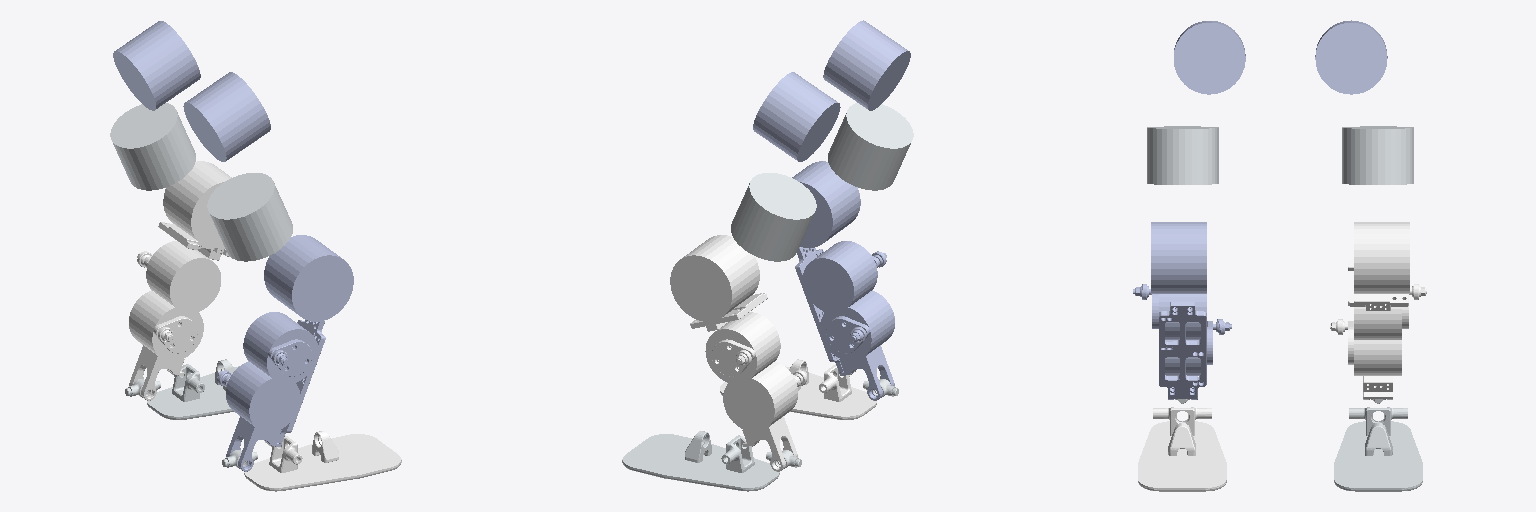
robot.urdf — hi_cl_23_240925:
<?xml version="1.0" encoding="utf-8"?>
<!--
This URDF was automatically created by SolidWorks to URDF Exporter! Originally created by [author] ([email redacted])
Commit Version: 1.6.0-4-g7f85cfe  Build Version: 1.6.7995.38578
For more information, please see http://wiki.ros.org/sw_urdf_exporter
-->
<robot name="hi_cl_23_240925">
	<mujoco>
		<compiler meshdir="../meshes/" balanceinertia="true" discardvisual="false" />
	</mujoco>
	<link name="base_link">
		<inertial>
			<origin xyz="-0.00154853 -7.263E-05 -0.0269642" rpy="0 0 0" />
			<mass value="4" />
			<inertia ixx="0.00957622" ixy="1.02E-06" ixz="-8.442E-05" iyy="0.00654424" iyz="1.11E-06" izz="0.00526567" />
		</inertial>
		<visual>
			<origin xyz="0 0 0" rpy="0 0 0" />
			<geometry>
				<mesh filename="../meshes/base_link.STL" />
			</geometry>
			<material name="">
				<color rgba="0.79216 0.81961 0.93333 1" />
			</material>
		</visual>
		<collision>
			<origin xyz="0 0 -0.07" rpy="0 0 0" />
			<geometry>
				<box size="0.3 0.3 0.25" />
				<!-- <mesh filename="../meshes/base_link.STL" /> -->
			</geometry>
		</collision>
	</link>
<!-- right arm -->
	<link name="r_shoulder_pitch_link">
		<inertial>
			<origin xyz="0.00242196 -0.058252 -8.6807E-05" rpy="0 0 0" />
			<mass value="0.35" />
			<inertia ixx="0.00017393" ixy="-1.346E-05" ixz="-1.1E-07" iyy="0.00013651" iyz="-8E-07" izz="0.00020583" />
		</inertial>
		<visual>
			<origin xyz="0 0 0" rpy="0 0 0" />
			<geometry>
				<mesh filename="../meshes/r_shoulder_pitch_link.STL" />
			</geometry>
			<material name="">
				<color rgba="0.89804 0.91765 0.92941 1" />
			</material>
		</visual>
		<collision>
			<origin xyz="0 0 0" rpy="0 0 0" />
			<geometry>
				<mesh filename="../meshes/r_shoulder_pitch_link.STL" />
			</geometry>
		</collision>
	</link>
	<joint name="r_shoulder_pitch_joint" type="fixed">
		<origin xyz="0 -0.08085 0" rpy="0 0 0" />
		<parent link="base_link" />
		<child link="r_shoulder_pitch_link" />
		<axis xyz="0 1 0" />
		<limit lower="-3.14" upper="3.14" effort="36" velocity="5" />
	</joint>
	<link name="r_shoulder_roll_link">
		<inertial>
			<origin xyz="-0.0088047 -8.8789E-05 -0.052824" rpy="0 0 0" />
			<mass value="0.35" />
			<inertia ixx="0.00028497" ixy="-4.1E-07" ixz="8.018E-05" iyy="0.00032147" iyz="-3.6E-07" izz="0.00014121" />
		</inertial>
		<visual>
			<origin xyz="0 0 0" rpy="0 0 0" />
			<geometry>
				<mesh filename="../meshes/r_shoulder_roll_link.STL" />
			</geometry>
			<material name="">
				<color rgba="0.89804 0.91765 0.92941 1" />
			</material>
		</visual>
		<collision>
			<origin xyz="0 0 0" rpy="0 0 0" />
			<geometry>
				<mesh filename="../meshes/r_shoulder_roll_link.STL" />
			</geometry>
		</collision>
	</link>
	<joint name="r_shoulder_roll_joint" type="fixed">
		<origin xyz="0 -0.06515 0" rpy="0 0 0" />
		<parent link="r_shoulder_pitch_link" />
		<child link="r_shoulder_roll_link" />
		<axis xyz="1 0 0" />
		<limit lower="-3.14" upper="3.14" effort="36" velocity="5" />
	</joint>
	<link name="r_arm_yaw_link">
		<inertial>
			<origin xyz="-0.002422 -8.6807E-05 -0.059552" rpy="0 0 0" />
			<mass value="0.35" />
			<inertia ixx="0.00017393" ixy="1.1E-07" ixz="1.346E-05" iyy="0.00020583" iyz="-8E-07" izz="0.00013651" />
		</inertial>
		<visual>
			<origin xyz="0 0 0" rpy="0 0 0" />
			<geometry>
				<mesh filename="../meshes/r_arm_yaw_link.STL" />
			</geometry>
			<material name="">
				<color rgba="0.89804 0.91765 0.92941 1" />
			</material>
		</visual>
		<collision>
			<origin xyz="0 0 0" rpy="0 0 0" />
			<geometry>
				<mesh filename="../meshes/r_arm_yaw_link.STL" />
			</geometry>
		</collision>
	</link>
	<joint name="r_arm_yaw_joint" type="fixed">
		<origin xyz="-0.0026 0 -0.06495" rpy="0 0 1.5707963" />
		<parent link="r_shoulder_roll_link" />
		<child link="r_arm_yaw_link" />
		<axis xyz="0 0 1" />
		<limit lower="-3.14" upper="3.14" effort="36" velocity="5" />
	</joint>
	<link name="r_arm_roll_link">
		<inertial>
			<origin xyz="0.0088047 8.8789E-05 -0.052824" rpy="0 0 0" />
			<mass value="0.35" />
			<inertia ixx="0.00028497" ixy="-4.1E-07" ixz="-8.018E-05" iyy="0.00032147" iyz="3.6E-07" izz="0.00014121" />
		</inertial>
		<visual>
			<origin xyz="0 0 0" rpy="0 0 0" />
			<geometry>
				<mesh filename="../meshes/r_arm_roll_link.STL" />
			</geometry>
			<material name="">
				<color rgba="0.89804 0.91765 0.92941 1" />
			</material>
		</visual>
		<collision>
			<origin xyz="0 0 0" rpy="0 0 0" />
			<geometry>
				<mesh filename="../meshes/r_arm_roll_link.STL" />
			</geometry>
		</collision>
	</link>
	<joint name="r_arm_roll_joint" type="fixed">
		<origin xyz="0 0 -0.06645" rpy="-1.5707963 0 0" />
		<parent link="r_arm_yaw_link" />
		<child link="r_arm_roll_link" />
		<axis xyz="1 0 0" />
		<limit lower="-3.14" upper="3.14" effort="36" velocity="5" />
	</joint>
	<link name="r_wrist_yaw_link">
		<inertial>
			<origin xyz="0 0 -0.06558" rpy="0 0 0" />
			<mass value="0.035143" />
			<inertia ixx="1.2175E-05" ixy="9.4252E-23" ixz="1.2115E-20" iyy="1.2175E-05" iyz="-1.456E-19" izz="3.7315E-06" />
		</inertial>
		<visual>
			<origin xyz="0 0 0" rpy="0 0 0" />
			<geometry>
				<mesh filename="../meshes/r_wrist_yaw_link.STL" />
			</geometry>
			<material name="">
				<color rgba="0.49804 0.49804 0.49804 1" />
			</material>
		</visual>
		<collision>
			<origin xyz="0 0 0" rpy="0 0 0" />
			<geometry>
				<mesh filename="../meshes/r_wrist_yaw_link.STL" />
			</geometry>
		</collision>
	</link>
	<joint name="r_wrist_yaw_joint" type="fixed">
		<origin xyz="0.0026 0 -0.06495" rpy="0 0 0" />
		<parent link="r_arm_roll_link" />
		<child link="r_wrist_yaw_link" />
		<axis xyz="0 0 1" />
		<limit lower="-3.14" upper="3.14" effort="36" velocity="5" />
	</joint>
<!-- left arm -->
	<link name="l_shoulder_pitch_link">
		<inertial>
			<origin xyz="0.00095302 0.058734 -8.0741E-05" rpy="0 0 0" />
			<mass value="0.35" />
			<inertia ixx="0.00016981" ixy="1.582E-05" ixz="-6E-08" iyy="0.00014053" iyz="7.3E-07" izz="0.00020608" />
		</inertial>
		<visual>
			<origin xyz="0 0 0" rpy="0 0 0" />
			<geometry>
				<mesh filename="../meshes/l_shoulder_pitch_link.STL" />
			</geometry>
			<material name="">
				<color rgba="1 1 1 1" />
			</material>
		</visual>
		<collision>
			<origin xyz="0 0 0" rpy="0 0 0" />
			<geometry>
				<mesh filename="../meshes/l_shoulder_pitch_link.STL" />
			</geometry>
		</collision>
	</link>
	<joint name="l_shoulder_pitch_joint" type="fixed">
		<origin xyz="0 0.08085 0" rpy="0 0 0" />
		<parent link="base_link" />
		<child link="l_shoulder_pitch_link" />
		<axis xyz="0 1 0" />
		<limit lower="-3.14" upper="3.14" effort="36" velocity="5" />
	</joint>
	<link name="l_shoulder_roll_link">
		<inertial>
			<origin xyz="-0.0088047 8.879E-05 -0.052824" rpy="0 0 0" />
			<mass value="0.35" />
			<inertia ixx="0.00028497" ixy="4.1E-07" ixz="8.018E-05" iyy="0.00032147" iyz="3.6E-07" izz="0.00014121" />
		</inertial>
		<visual>
			<origin xyz="0 0 0" rpy="0 0 0" />
			<geometry>
				<mesh filename="../meshes/l_shoulder_roll_link.STL" />
			</geometry>
			<material name="">
				<color rgba="0.89804 0.91765 0.92941 1" />
			</material>
		</visual>
		<collision>
			<origin xyz="0 0 0" rpy="0 0 0" />
			<geometry>
				<mesh filename="../meshes/l_shoulder_roll_link.STL" />
			</geometry>
		</collision>
	</link>
	<joint name="l_shoulder_roll_joint" type="fixed">
		<origin xyz="0 0.06515 0" rpy="0 0 0" />
		<parent link="l_shoulder_pitch_link" />
		<child link="l_shoulder_roll_link" />
		<axis xyz="1 0 0" />
		<limit lower="-3.14" upper="3.14" effort="36" velocity="5" />
	</joint>
	<link name="l_arm_yaw_link">
		<inertial>
			<origin xyz="-0.002422 8.6807E-05 -0.059552" rpy="0 0 0" />
			<mass value="0.35" />
			<inertia ixx="0.00017393" ixy="-1.1E-07" ixz="1.346E-05" iyy="0.00020583" iyz="8E-07" izz="0.00013651" />
		</inertial>
		<visual>
			<origin xyz="0 0 0" rpy="0 0 0" />
			<geometry>
				<mesh filename="../meshes/l_arm_yaw_link.STL" />
			</geometry>
			<material name="">
				<color rgba="0.89804 0.91765 0.92941 1" />
			</material>
		</visual>
		<collision>
			<origin xyz="0 0 0" rpy="0 0 0" />
			<geometry>
				<mesh filename="../meshes/l_arm_yaw_link.STL" />
			</geometry>
		</collision>
	</link>
	<joint name="l_arm_yaw_joint" type="fixed">
		<origin xyz="-0.0026 0 -0.06495" rpy="0 0 1.5707963" />
		<parent link="l_shoulder_roll_link" />
		<child link="l_arm_yaw_link" />
		<axis xyz="0 0 1" />
		<limit lower="-3.14" upper="3.14" effort="36" velocity="5" />
	</joint>
	<link name="l_arm_roll_link">
		<inertial>
			<origin xyz="0.0088047 -8.879E-05 -0.052824" rpy="0 0 0" />
			<mass value="0.35" />
			<inertia ixx="0.00028497" ixy="4.1E-07" ixz="-8.018E-05" iyy="0.00032147" iyz="-3.6E-07" izz="0.00014121" />
		</inertial>
		<visual>
			<origin xyz="0 0 0" rpy="0 0 0" />
			<geometry>
				<mesh filename="../meshes/l_arm_roll_link.STL" />
			</geometry>
			<material name="">
				<color rgba="0.89804 0.91765 0.92941 1" />
			</material>
		</visual>
		<collision>
			<origin xyz="0 0 0" rpy="0 0 0" />
			<geometry>
				<mesh filename="../meshes/l_arm_roll_link.STL" />
			</geometry>
		</collision>
	</link>
	<joint name="l_arm_roll_joint" type="fixed">
		<origin xyz="0 0 -0.06645" rpy="-1.5707963 0 0" />
		<parent link="l_arm_yaw_link" />
		<child link="l_arm_roll_link" />
		<axis xyz="1 0 0" />
		<limit lower="-3.14" upper="3.14" effort="36" velocity="5" />
	</joint>
	<link name="l_wrist_yaw_link">
		<inertial>
			<origin xyz="1.1102E-16 3.7151E-14 -0.06558" rpy="0 0 0" />
			<mass value="0.035143" />
			<inertia ixx="1.2175E-05" ixy="2.3882E-22" ixz="2.2238E-20" iyy="1.2175E-05" iyz="3.9298E-20" izz="3.7315E-06" />
		</inertial>
		<visual>
			<origin xyz="0 0 0" rpy="0 0 0" />
			<geometry>
				<mesh filename="../meshes/l_wrist_yaw_link.STL" />
			</geometry>
			<material name="">
				<color rgba="0.49804 0.49804 0.49804 1" />
			</material>
		</visual>
		<collision>
			<origin xyz="0 0 0" rpy="0 0 0" />
			<geometry>
				<mesh filename="../meshes/l_wrist_yaw_link.STL" />
			</geometry>
		</collision>
	</link>
	<joint name="l_wrist_yaw_joint" type="fixed">
		<origin xyz="0.0026 0 -0.06495" rpy="0 0 0" />
		<parent link="l_arm_roll_link" />
		<child link="l_wrist_yaw_link" />
		<axis xyz="0 0 1" />
		<limit lower="-3.14" upper="3.14" effort="36" velocity="5" />
	</joint>
<!-- loin -->
	<link name="loin_yaw_link">
		<inertial>
			<origin xyz="0 0 -0.060242" rpy="0 0 0" />
			<mass value="1.305" />
			<inertia ixx="0.0015765" ixy="2.98E-06" ixz="0" iyy="0.00041876" iyz="0" izz="0.0014561" />
		</inertial>
		<visual>
			<origin xyz="0 0 0" rpy="0 0 0" />
			<geometry>
				<mesh filename="../meshes/loin_yaw_link.STL" />
			</geometry>
			<material name="">
				<color rgba="1 1 1 1" />
			</material>
		</visual>
		<collision>
			<origin xyz="0 0 -0.06" rpy="0 0 0" />
			<geometry>
				<box size="0.06 0.12 0.06" />
				<!-- <mesh filename="../meshes/loin_yaw_link.STL" /> -->
			</geometry>
		</collision>
	</link>
	<joint name="loin_yaw_joint" type="fixed">
		<origin xyz="0 0 -0.19425" rpy="0 0 0" />
		<parent link="base_link" />
		<child link="loin_yaw_link" />
		<axis xyz="0 0 1" />
		<limit lower="-3.14" upper="3.14" effort="36" velocity="5" />
	</joint>
<!-- right leg -->
	<link name="r_hip_pitch_link">
		<inertial>
			<origin xyz="-0.00022626 -0.06684 9.015E-05" rpy="0 0 0" />
			<mass value="0.661" />
			<inertia ixx="0.00018617" ixy="-1E-08" ixz="1.2E-07" iyy="0.00019782" iyz="4.7E-07" izz="0.0002263" />
		</inertial>
		<visual>
			<origin xyz="0 0 0" rpy="0 0 0" />
			<geometry>
				<mesh filename="../meshes/r_hip_pitch_link.STL" />
			</geometry>
			<material name="">
				<color rgba="0.79216 0.81961 0.93333 1" />
			</material>
		</visual>
		<collision>
			<origin xyz="0 -0.07 0" rpy="0 0 0" />
			<geometry>
				<box size="0.06 0.06 0.06" />
				<!-- <mesh filename="../meshes/r_hip_pitch_link.STL" /> -->
			</geometry>
		</collision>
	</link>
	<joint name="r_hip_pitch_joint" type="revolute">
		<origin xyz="0 -0.02875 -0.06425" rpy="0 -0.4 0" />
		<parent link="loin_yaw_link" />
		<child link="r_hip_pitch_link" />
		<axis xyz="0 1 0" />
		<limit lower="-1.0" upper="1.8" effort="36" velocity="5" />
	</joint>
	<link name="r_hip_roll_link">
		<inertial>
			<origin xyz="0.00088845 -0.00019059 -0.066357" rpy="0 0 0" />
			<mass value="0.54219" />
			<inertia ixx="0.00096893" ixy="-6.4E-07" ixz="-2.26E-05" iyy="0.0012165" iyz="-2.89E-06" izz="0.0004037" />
		</inertial>
		<visual>
			<origin xyz="0 0 0" rpy="0 0 0" />
			<geometry>
				<mesh filename="../meshes/r_hip_roll_link.STL" />
			</geometry>
			<material name="">
				<color rgba="0.89804 0.91765 0.92941 1" />
			</material>
		</visual>
		<collision>
			<origin xyz="0 0 -0.08" rpy="0 0 0" />
			<geometry>
				<box size="0.06 0.06 0.06" />
				<!-- <mesh filename="../meshes/r_hip_roll_link.STL" /> -->
			</geometry>
		</collision>
	</link>
	<joint name="r_hip_roll_joint" type="revolute">
		<origin xyz="0 -0.06875 0" rpy="0 0 0" />
		<parent link="r_hip_pitch_link" />
		<child link="r_hip_roll_link" />
		<axis xyz="1 0 0" />
		<limit lower="-0.5" upper="0.12" effort="36" velocity="5" />
	</joint>
	<link name="r_thigh_link">
		<inertial>
			<origin xyz="0 0.0019897 -0.066297" rpy="0 0 0" />
			<mass value="0.23898" />
			<inertia ixx="0.00050536" ixy="-1.1811E-12" ixz="5.2665E-11" iyy="0.00032488" iyz="1.858E-05" izz="0.00029126" />
		</inertial>
		<visual>
			<origin xyz="0 0 0" rpy="0 0 0" />
			<geometry>
				<mesh filename="../meshes/r_thigh_link.STL" />
			</geometry>
			<material name="">
				<color rgba="0.89804 0.91765 0.92941 1" />
			</material>
		</visual>
		<collision>
			<origin xyz="0 0 -0.06" rpy="0 0 0" />
			<geometry>
				<box size="0.06 0.06 0.06" />
				<mesh filename="../meshes/r_thigh_link.STL" />
			</geometry>
		</collision>
	</link>
	<joint name="r_thigh_joint" type="revolute">
		<origin xyz="0 0 -0.09425" rpy="0 0 0" />
		<parent link="r_hip_roll_link" />
		<child link="r_thigh_link" />
		<axis xyz="0 0 1" />
		<limit lower="-0.6" upper="0.3" effort="36" velocity="5" />
	</joint>
	<link name="r_calf_link">
		<inertial>
			<origin xyz="-8.965E-05 -0.0020679 -0.050651" rpy="0 0 0" />
			<mass value="1.2" />
			<inertia ixx="0.0068013" ixy="2.6E-07" ixz="-3.47E-06" iyy="0.006751" iyz="-4.2E-07" izz="0.00034715" />
		</inertial>
		<visual>
			<origin xyz="0 0 0" rpy="0 0 0" />
			<geometry>
				<mesh filename="../meshes/r_calf_link.STL" />
			</geometry>
			<material name="">
				<color rgba="0.79216 0.81961 0.93333 1" />
			</material>
		</visual>
		<collision>
			<origin xyz="0 0 -0.1" rpy="0 0 0" />
			<geometry>
				<box size="0.012 0.06 0.1" />
				<!-- <mesh filename="../meshes/r_calf_link.STL" /> -->
			</geometry>
		</collision>
	</link>
	<joint name="r_calf_joint" type="revolute">
		<origin xyz="0 0 -0.10575" rpy="0 0.8 0" />
		<parent link="r_thigh_link" />
		<child link="r_calf_link" />
		<axis xyz="0 1 0" />
		<limit lower="-0.8" upper="1.5" effort="36" velocity="5" />
	</joint>
	<link name="r_ankle_pitch_link">
		<inertial>
			<origin xyz="0.0072806 0.00051939 2.2469E-12" rpy="0 0 0" />
			<mass value="0.16682" />
			<inertia ixx="0.0001187" ixy="1E-06" ixz="0" iyy="0.0001994" iyz="3.7295E-17" izz="0.00028526" />
		</inertial>
		<visual>
			<origin xyz="0 0 0" rpy="0 0 0" />
			<geometry>
				<mesh filename="../meshes/r_ankle_pitch_link.STL" />
			</geometry>
			<material name="">
				<color rgba="0.89804 0.91765 0.92941 1" />
			</material>
		</visual>
		<collision>
			<origin xyz="0 0 0" rpy="0 0 0" />
			<geometry>
				<box size="0.078 0.08 0.05" />
				<!-- <mesh filename="../meshes/r_ankle_pitch_link.STL" /> -->
			</geometry>
		</collision>
	</link>
	<joint name="r_ankle_pitch_joint" type="revolute">
		<origin xyz="0 0 -0.2" rpy="0 -0.4 0" />
		<parent link="r_calf_link" />
		<child link="r_ankle_pitch_link" />
		<axis xyz="0 1 0" />
		<limit lower="-0.45" upper="1.15" effort="36" velocity="5" />
	</joint>
	<link name="r_ankle_roll_link">
		<inertial>
			<origin xyz="-0.040001 9.312E-05 -0.023563" rpy="0 0 0" />
			<mass value="0.5" />
			<inertia ixx="0.00040772" ixy="-2.34E-06" ixz="-9.125E-05" iyy="0.0015071" iyz="-4.6E-07" izz="0.0013858" />
		</inertial>
		<visual>
			<origin xyz="0 0 0" rpy="0 0 0" />
			<geometry>
				<mesh filename="../meshes/r_ankle_roll_link.STL" />
			</geometry>
			<material name="">
				<color rgba="1 1 1 1" />
			</material>
		</visual>
		<collision>
			<origin xyz="0 0 0" rpy="0 0 0" />
			<geometry>
				<mesh filename="../meshes/r_ankle_roll_link.STL" />
			</geometry>
		</collision>
	</link>
	<joint name="r_ankle_roll_joint" type="revolute">
		<origin xyz="0.07525 -0.0003 0" rpy="0 0 0" />
		<parent link="r_ankle_pitch_link" />
		<child link="r_ankle_roll_link" />
		<axis xyz="1 0 0" />
		<limit lower="-0.15" upper="0.15" effort="36" velocity="5" />
	</joint>
<!-- left leg -->
	<link name="l_hip_pitch_link">
		<inertial>
			<origin xyz="-0.00022626 0.06700617 8.992E-05" rpy="0 0 0" />
			<mass value="0.661" />
			<inertia ixx="0.00018657" ixy="1.9E-07" ixz="1.1E-07" iyy="0.00019782" iyz="2.5E-07" izz="0.00022671" />
		</inertial>
		<visual>
			<origin xyz="0 0 0" rpy="0 0 0" />
			<geometry>
				<mesh filename="../meshes/l_hip_pitch_link.STL" />
			</geometry>
			<material name="">
				<color rgba="0.79216 0.81961 0.93333 1" />
			</material>
		</visual>
		<collision>
			<origin xyz="0 0.07 0" rpy="0 0 0" />
			<geometry>
				<box size="0.06 0.06 0.06" />
				<!-- <mesh filename="../meshes/l_hip_pitch_link.STL" /> -->
			</geometry>
		</collision>
	</link>
	<joint name="l_hip_pitch_joint" type="revolute">
		<origin xyz="0 0.02875 -0.06425" rpy="0 -0.4 0" />
		<parent link="loin_yaw_link" />
		<child link="l_hip_pitch_link" />
		<axis xyz="0 1 0" />
		<limit lower="-1.0" upper="1.8" effort="36" velocity="5" />
	</joint>
	<link name="l_hip_roll_link">
		<inertial>
			<origin xyz="0.00051186 -0.000186 -0.06635681" rpy="0 0 0" />
			<mass value="0.54219" />
			<inertia ixx="0.00096867" ixy="4.9E-07" ixz="-2.833E-05" iyy="0.00121705" iyz="-2.83E-06" izz="0.00040399" />
		</inertial>
		<visual>
			<origin xyz="0 0 0" rpy="0 0 0" />
			<geometry>
				<mesh filename="../meshes/l_hip_roll_link.STL" />
			</geometry>
			<material name="">
				<color rgba="0.89804 0.91765 0.92941 1" />
			</material>
		</visual>
		<collision>
			<origin xyz="0 0 -0.08" rpy="0 0 0" />
			<geometry>
				<box size="0.06 0.06 0.06" />
				<!-- <mesh filename="../meshes/l_hip_roll_link.STL" /> -->
			</geometry>
		</collision>
	</link>
	<joint name="l_hip_roll_joint" type="revolute">
		<origin xyz="0 0.06875 0" rpy="0 0 0" />
		<parent link="l_hip_pitch_link" />
		<child link="l_hip_roll_link" />
		<axis xyz="1 0 0" />
		<limit lower="-0.12" upper="0.5" effort="36" velocity="5" />
	</joint>
	<link name="l_thigh_link">
		<inertial>
			<origin xyz="0 -0.0019897 -0.066297" rpy="0 0 0" />
			<mass value="0.23898" />
			<inertia ixx="0.00050536" ixy="0" ixz="0" iyy="0.00032488" iyz="-1.858E-05" izz="0.00029126" />
		</inertial>
		<visual>
			<origin xyz="0 0 0" rpy="0 0 0" />
			<geometry>
				<mesh filename="../meshes/l_thigh_link.STL" />
			</geometry>
			<material name="">
				<color rgba="0.89804 0.91765 0.92941 1" />
			</material>
		</visual>
		<collision>
			<origin xyz="0 0 -0.06" rpy="0 0 0" />
			<geometry>
				<box size="0.06 0.06 0.06" />
				<!-- <mesh filename="../meshes/l_thigh_link.STL" /> -->
			</geometry>
		</collision>
	</link>
	<joint name="l_thigh_joint" type="revolute">
		<origin xyz="0 0 -0.09425" rpy="0 0 0" />
		<parent link="l_hip_roll_link" />
		<child link="l_thigh_link" />
		<axis xyz="0 0 1" />
		<limit lower="-0.3" upper="0.6" effort="36" velocity="5" />
	</joint>
	<link name="l_calf_link">
		<inertial>
			<origin xyz="8.965E-05 0.00206794 -0.05065108" rpy="0 0 0" />
			<mass value="1.2" />
			<inertia ixx="0.0068013" ixy="2.6E-07" ixz="3.47E-06" iyy="0.00675095" iyz="4.2E-07" izz="0.00034715" />
		</inertial>
		<visual>
			<origin xyz="0 0 0" rpy="0 0 0" />
			<geometry>
				<mesh filename="../meshes/l_calf_link.STL" />
			</geometry>
			<material name="">
				<color rgba="1 1 1 1" />
			</material>
		</visual>
		<collision>
			<origin xyz="0 0 -0.1" rpy="0 0 0" />
			<geometry>
				<box size="0.012 0.06 0.1" />
				<!-- <mesh filename="../meshes/l_calf_link.STL" /> -->
			</geometry>
		</collision>
	</link>
	<joint name="l_calf_joint" type="revolute">
		<origin xyz="0 0 -0.10575" rpy="0 0.8 0" />
		<parent link="l_thigh_link" />
		<child link="l_calf_link" />
		<axis xyz="0 1 0" />
		<limit lower="-0.8" upper="1.5" effort="36" velocity="5" />
	</joint>
	<link name="l_ankle_pitch_link">
		<inertial>
			<origin xyz="0.00467932 -0.00047699 2.1252E-12" rpy="0 0 0" />
			<mass value="0.16682" />
			<inertia ixx="0.00011981" ixy="-6.4E-07" ixz="-8.1927E-13" iyy="0.00022179" iyz="-3.7346E-17" izz="0.00030766" />
		</inertial>
		<visual>
			<origin xyz="0 0 0" rpy="0 0 0" />
			<geometry>
				<mesh filename="../meshes/l_ankle_pitch_link.STL" />
			</geometry>
			<material name="">
				<color rgba="0.89804 0.91765 0.92941 1" />
			</material>
		</visual>
		<collision>
			<origin xyz="0 0 0" rpy="0 0 0" />
			<geometry>
				<box size="0.078 0.08 0.05" />
				<!-- <mesh filename="../meshes/l_ankle_pitch_link.STL" /> -->
			</geometry>
		</collision>
	</link>
	<joint name="l_ankle_pitch_joint" type="revolute">
		<origin xyz="0 0 -0.2" rpy="0 -0.4 0" />
		<parent link="l_calf_link" />
		<child link="l_ankle_pitch_link" />
		<axis xyz="0 1 0" />
		<limit lower="-0.45" upper="1.15" effort="36" velocity="5" />
	</joint>
	<link name="l_ankle_roll_link">
		<inertial>
			<origin xyz="-0.03772 9.584E-05 -0.02425" rpy="0 0 0" />
			<mass value="0.5" />
			<inertia ixx="0.0004095" ixy="-2.3E-06" ixz="-0.00012156" iyy="0.00145" iyz="-5.1E-07" izz="0.0013334" />
		</inertial>
		<visual>
			<origin xyz="0 0 0" rpy="0 0 0" />
			<geometry>
				<mesh filename="../meshes/l_ankle_roll_link.STL" />
			</geometry>
			<material name="">
				<color rgba="0.89804 0.91765 0.92941 1" />
			</material>
		</visual>
		<collision>
			<origin xyz="0 0 0" rpy="0 0 0" />
			<geometry>
				<mesh filename="../meshes/l_ankle_roll_link.STL" />
			</geometry>
		</collision>
	</link>
	<joint name="l_ankle_roll_joint" type="revolute">
		<origin xyz="0.07525 0.0003 0" rpy="0 0 0" />
		<parent link="l_ankle_pitch_link" />
		<child link="l_ankle_roll_link" />
		<axis xyz="1 0 0" />
		<limit lower="-0.15" upper="0.15" effort="36" velocity="5" />
	</joint>
</robot>

--- What the picture shows (computed from the rendered views, not written in the file) ---
Views: 3 orthographic renders of the robot side by side, from view 1: azimuth 30°, elevation 25°; view 2: azimuth 150°, elevation 25°; view 3: azimuth 270°, elevation 25°.
Model hi_cl_23_240925 with 24 links and 23 joints (12 revolute, 11 fixed), rooted at base_link, posed every joint at zero.
Visible links, largest first — view 1: r_calf_link, l_calf_link, r_ankle_roll_link, r_hip_roll_link, l_hip_roll_link, r_hip_pitch_link, l_hip_pitch_link, l_ankle_roll_link; view 2: l_calf_link, r_calf_link, l_ankle_roll_link, l_hip_roll_link, r_hip_roll_link, r_hip_pitch_link, l_hip_pitch_link, r_ankle_roll_link; view 3: r_calf_link, l_calf_link, l_ankle_roll_link, r_ankle_roll_link, r_hip_pitch_link, l_hip_pitch_link, r_hip_roll_link, l_hip_roll_link.
Link boxes in pixels (x1=…): r_calf_link: x1=217, y1=235, x2=353, y2=471; l_calf_link: x1=129, y1=161, x2=231, y2=400; r_ankle_roll_link: x1=244, y1=431, x2=401, y2=491; r_hip_roll_link: x1=207, y1=173, x2=292, y2=261; l_hip_roll_link: x1=110, y1=103, x2=195, y2=190; r_hip_pitch_link: x1=183, y1=72, x2=270, y2=161; l_hip_pitch_link: x1=113, y1=21, x2=200, y2=110; l_ankle_roll_link: x1=147, y1=359, x2=238, y2=419; l_calf_link: x1=670, y1=235, x2=806, y2=471; r_calf_link: x1=792, y1=161, x2=894, y2=400; l_ankle_roll_link: x1=622, y1=431, x2=779, y2=491; l_hip_roll_link: x1=731, y1=173, x2=816, y2=261; r_hip_roll_link: x1=828, y1=103, x2=913, y2=190; r_hip_pitch_link: x1=823, y1=20, x2=910, y2=110; l_hip_pitch_link: x1=753, y1=72, x2=840, y2=161; r_ankle_roll_link: x1=720, y1=359, x2=876, y2=419; r_calf_link: x1=1133, y1=222, x2=1231, y2=399; l_calf_link: x1=1330, y1=222, x2=1426, y2=399; l_ankle_roll_link: x1=1334, y1=407, x2=1422, y2=491; r_ankle_roll_link: x1=1138, y1=407, x2=1226, y2=491; r_hip_pitch_link: x1=1174, y1=21, x2=1245, y2=94; l_hip_pitch_link: x1=1315, y1=20, x2=1387, y2=94; r_hip_roll_link: x1=1147, y1=126, x2=1218, y2=184; l_hip_roll_link: x1=1342, y1=126, x2=1413, y2=184.
Bounding box of the posed robot: 0.2103 × 0.2931 × 0.4433 m (x, y, z).
10 mesh visuals loaded from 24 distinct referenced files (10 binary STL); not drawn: 12 (reference not matched to a file when rendering), 2 (file found but could not be loaded).